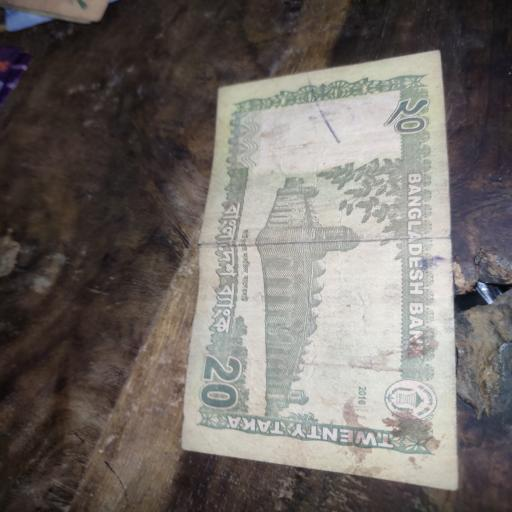20taka: (177, 49, 457, 486)
